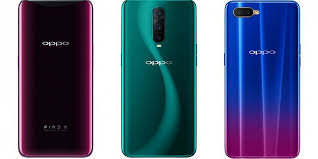oppo: (16, 1, 97, 158), (119, 1, 200, 158), (222, 1, 303, 158)
